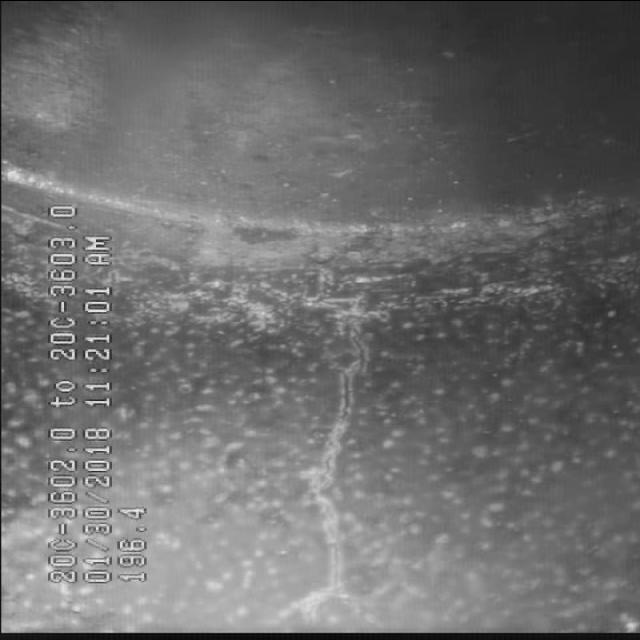Crack: (225, 253, 423, 612)
